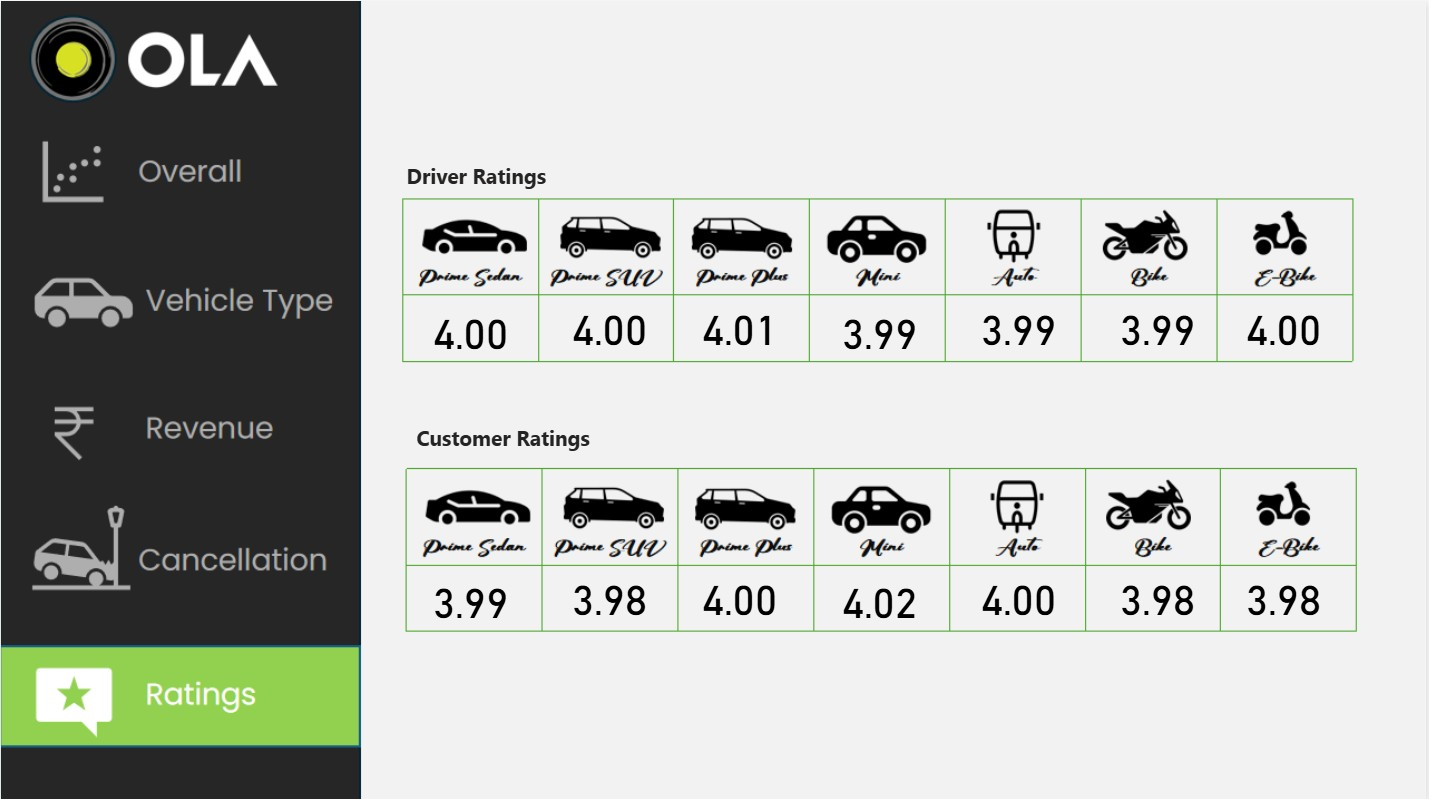

Layout of this report page (visuals, bound fields, positions):
{"tool":"powerbi","page":{"name":"Ratings","canvas":[1280,720],"ordinal":4},"visuals":[{"type":"actionButton","box":[0,224.3,325.4,91.3],"z":0},{"type":"actionButton","box":[0,337.8,325.4,91.3],"z":1000},{"type":"actionButton","box":[0,445.1,325.4,91.3],"z":2000},{"type":"actionButton","box":[0,446,325.4,91.3],"z":3000},{"type":"actionButton","box":[0,114.4,325.4,91.3],"z":4000},{"type":"card","title":"Total Bookings","fields":{"Values":["Avg(Bookings-20000-Rows.Driver_Ratings)"]},"box":[359,262,124.9,66.9],"z":5000},{"type":"card","title":"Total Bookings","fields":{"Values":["Avg(Bookings-20000-Rows.Driver_Ratings)"]},"box":[975.6,258.7,124.9,66.9],"z":6000},{"type":"card","title":"Total Bookings","fields":{"Values":["Avg(Bookings-20000-Rows.Driver_Ratings)"]},"box":[1089.3,258.7,124.9,66.9],"z":7000},{"type":"card","title":"Total Bookings","fields":{"Values":["Avg(Bookings-20000-Rows.Driver_Ratings)"]},"box":[850.7,258.7,124.9,66.9],"z":8000},{"type":"card","title":"Total Bookings","fields":{"Values":["Avg(Bookings-20000-Rows.Driver_Ratings)"]},"box":[725.9,262,124.9,66.9],"z":9000},{"type":"card","title":"Total Bookings","fields":{"Values":["Avg(Bookings-20000-Rows.Driver_Ratings)"]},"box":[601,258.7,124.9,66.9],"z":10000},{"type":"card","title":"Total Bookings","fields":{"Values":["Avg(Bookings-20000-Rows.Driver_Ratings)"]},"box":[483.9,258.7,124.9,66.9],"z":11000},{"type":"card","title":"Total Bookings","fields":{"Values":["Avg(Bookings-20000-Rows.Customer_Rating)"]},"box":[359,504,124.9,66.9],"z":12000},{"type":"card","title":"Total Bookings","fields":{"Values":["Avg(Bookings-20000-Rows.Customer_Rating)"]},"box":[1089.3,500.6,124.9,66.9],"z":13000},{"type":"card","title":"Total Bookings","fields":{"Values":["Avg(Bookings-20000-Rows.Customer_Rating)"]},"box":[975.6,500.6,124.9,66.9],"z":14000},{"type":"card","title":"Total Bookings","fields":{"Values":["Avg(Bookings-20000-Rows.Customer_Rating)"]},"box":[850.7,500.6,124.9,66.9],"z":15000},{"type":"card","title":"Total Bookings","fields":{"Values":["Avg(Bookings-20000-Rows.Customer_Rating)"]},"box":[725.9,504,124.9,66.9],"z":16000},{"type":"card","title":"Total Bookings","fields":{"Values":["Avg(Bookings-20000-Rows.Customer_Rating)"]},"box":[601,500.6,124.9,66.9],"z":17000},{"type":"card","title":"Total Bookings","fields":{"Values":["Avg(Bookings-20000-Rows.Customer_Rating)"]},"box":[483.9,500.6,124.9,66.9],"z":18000},{"type":"textbox","box":[359,139.4,150.5,41.2],"z":19000},{"type":"textbox","box":[367.9,374.6,178.4,41.2],"z":20000}]}

Visuals, with their boxes on the page's 1280x720 design canvas (x1, y1, x2, y2). These are canvas units, not pixel positions in the 1429x799 screenshot, which may show the page scaled, cropped or inside an application window:
actionButton: (x1=0, y1=224, x2=325, y2=316)
actionButton: (x1=0, y1=338, x2=325, y2=429)
actionButton: (x1=0, y1=445, x2=325, y2=536)
actionButton: (x1=0, y1=446, x2=325, y2=537)
actionButton: (x1=0, y1=114, x2=325, y2=206)
"Total Bookings" card: (x1=359, y1=262, x2=484, y2=329)
"Total Bookings" card: (x1=976, y1=259, x2=1100, y2=326)
"Total Bookings" card: (x1=1089, y1=259, x2=1214, y2=326)
"Total Bookings" card: (x1=851, y1=259, x2=976, y2=326)
"Total Bookings" card: (x1=726, y1=262, x2=851, y2=329)
"Total Bookings" card: (x1=601, y1=259, x2=726, y2=326)
"Total Bookings" card: (x1=484, y1=259, x2=609, y2=326)
"Total Bookings" card: (x1=359, y1=504, x2=484, y2=571)
"Total Bookings" card: (x1=1089, y1=501, x2=1214, y2=568)
"Total Bookings" card: (x1=976, y1=501, x2=1100, y2=568)
"Total Bookings" card: (x1=851, y1=501, x2=976, y2=568)
"Total Bookings" card: (x1=726, y1=504, x2=851, y2=571)
"Total Bookings" card: (x1=601, y1=501, x2=726, y2=568)
"Total Bookings" card: (x1=484, y1=501, x2=609, y2=568)
textbox: (x1=359, y1=139, x2=510, y2=181)
textbox: (x1=368, y1=375, x2=546, y2=416)
